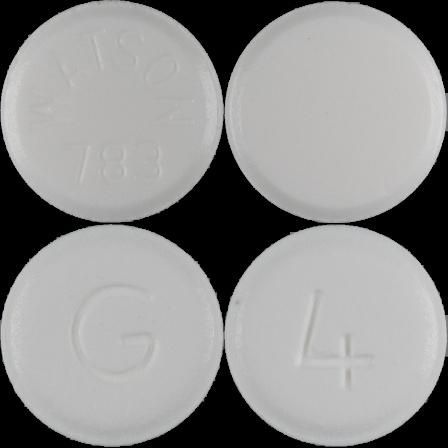63629-4010: (0, 0, 224, 224)
